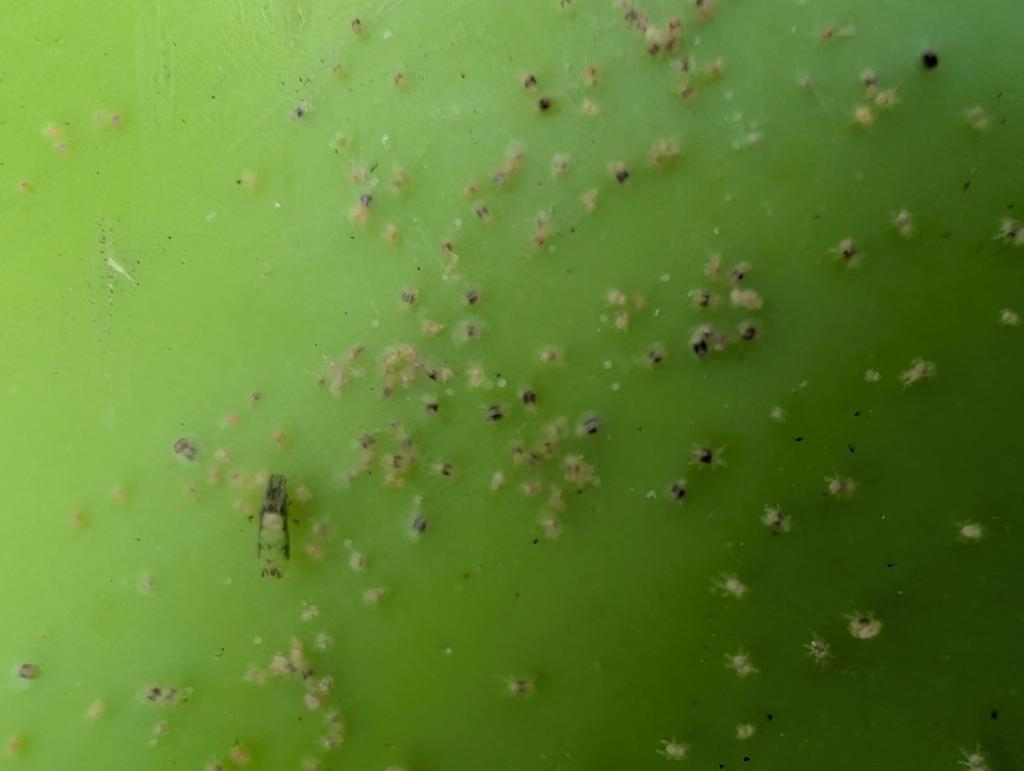tiny_pests: (302, 318, 472, 562), (628, 243, 787, 388), (484, 408, 618, 555), (240, 636, 369, 770), (602, 0, 742, 107), (454, 135, 531, 226), (340, 154, 418, 210)
